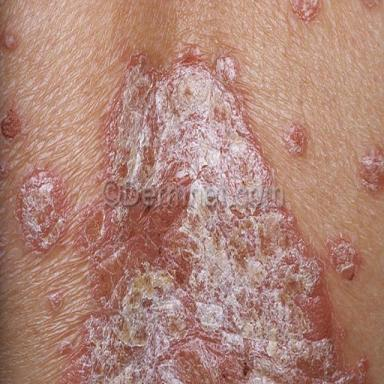Psoriasis: (13, 166, 373, 384), (97, 45, 275, 191), (326, 235, 361, 280), (360, 146, 384, 191), (283, 122, 307, 157), (49, 292, 62, 311), (5, 34, 17, 49)
